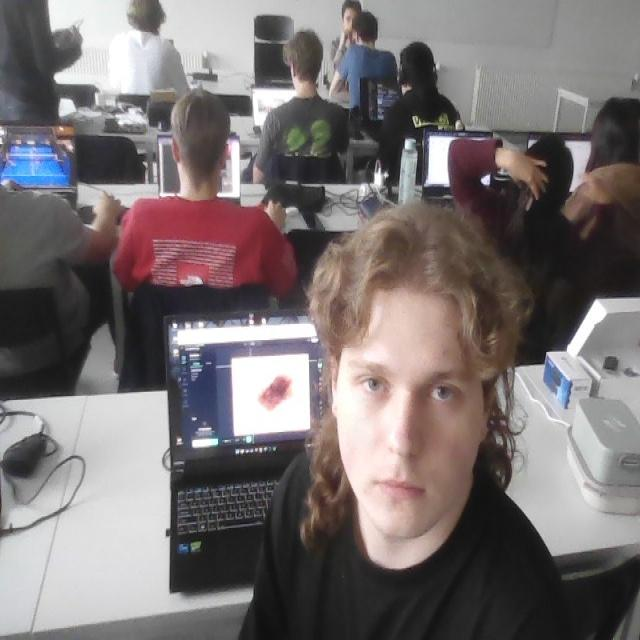opened_eye: (354, 368, 394, 398), (429, 381, 458, 403)
